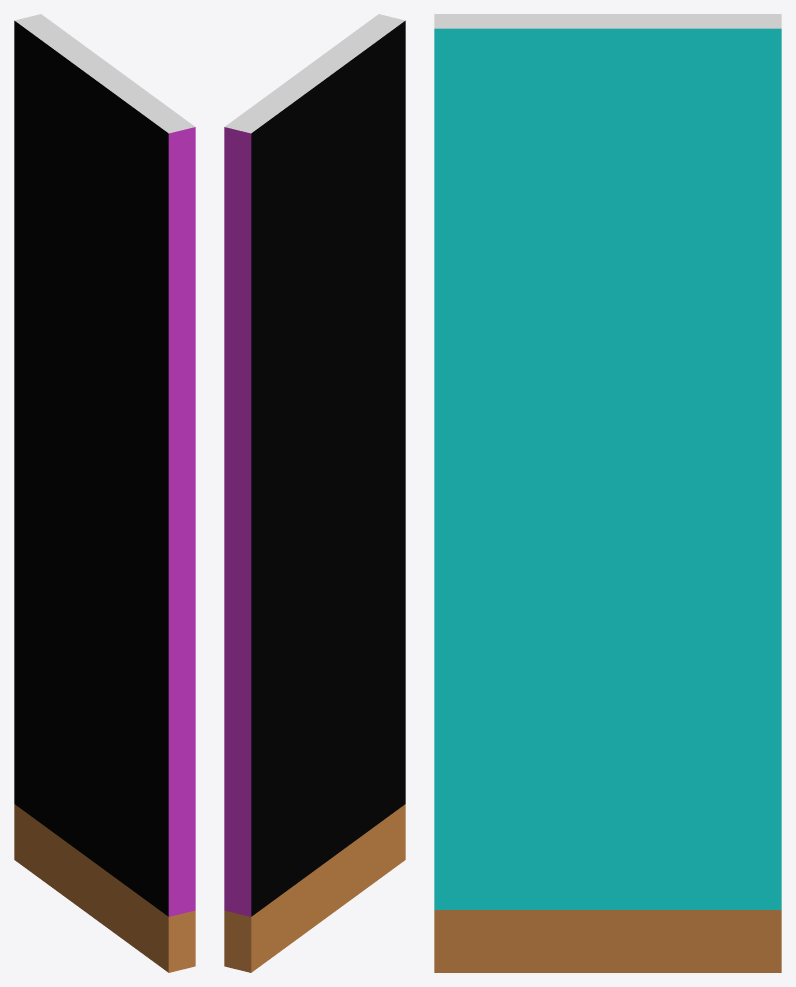
Rendered from wall_1m.dae.
3 views of the same model, side by side, from view 1: azimuth 30°, elevation 25°; view 2: azimuth 150°, elevation 25°; view 3: azimuth 270°, elevation 25° (orthographic). The views are drawn at different scales.
Visible parts, largest first — view 1: Cube; view 2: Cube; view 3: Cube.
Boxes of the visible parts, bbox=[...] form: Cube: bbox=[14, 14, 195, 972]; Cube: bbox=[224, 14, 405, 972]; Cube: bbox=[434, 14, 781, 972].
Size of the model in its own units: 0.1 by 1 by 3.
